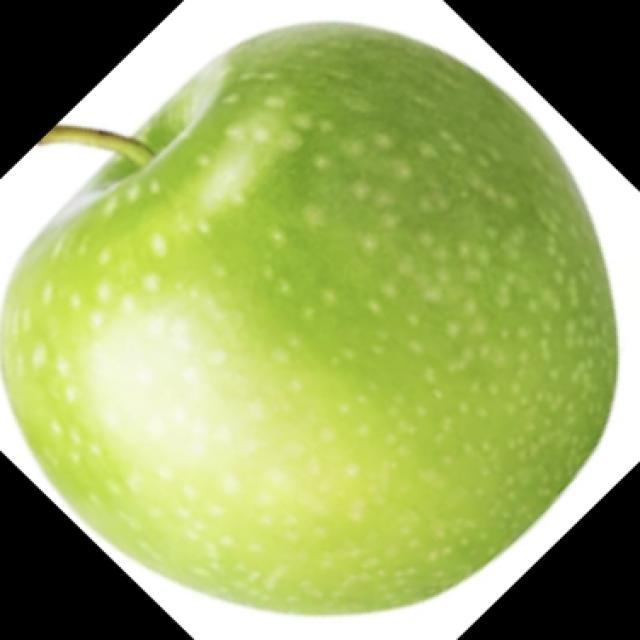Fresh Apple: (43, 23, 616, 640)
